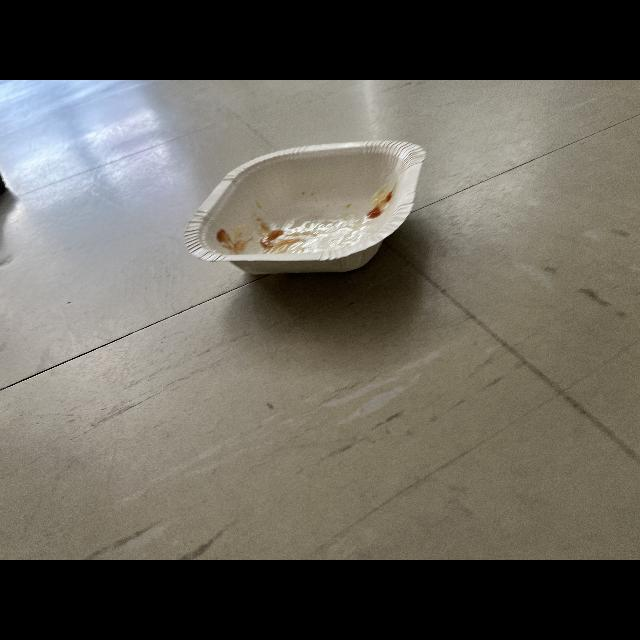cardboard_bowl: (187, 125, 436, 282)
